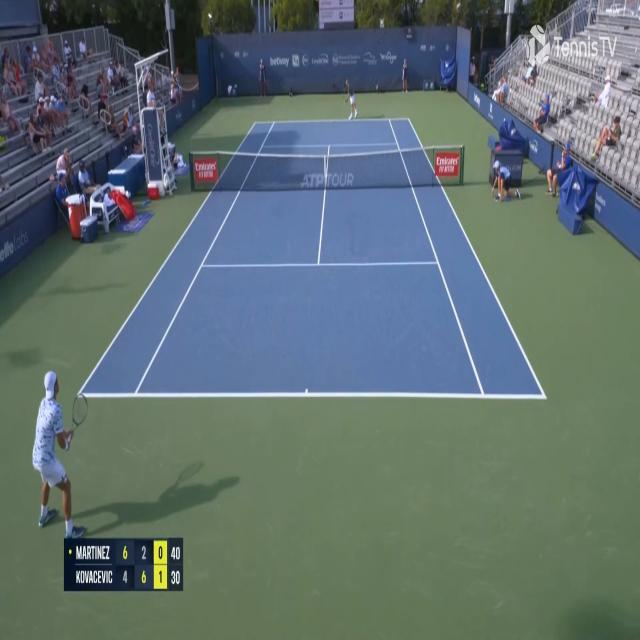tennis-player: (30, 363, 90, 544), (340, 76, 359, 123)
